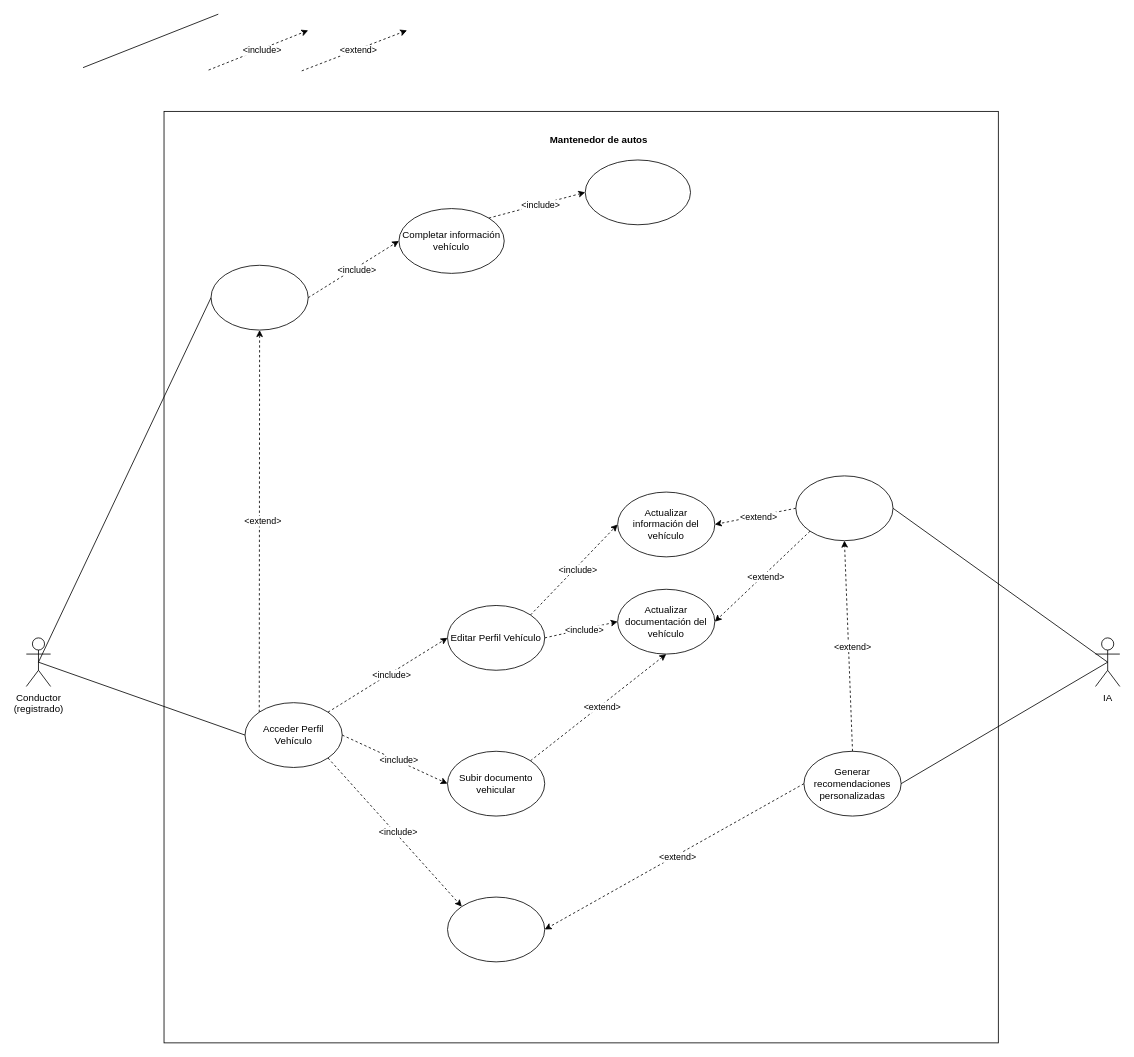
The diagram is 1134 pixels wide and 1057 high, and some of its shapes have lost their labels. The shapes that lost their labels are listed below. From the top down, each one's centre as x and y in pixels, then its label:
At (637,192): "Validar información".
At (259,297): "Registrar Vehículo".
At (844,508): "Estudiar información".
At (496,929): "Ver información personalizada".
